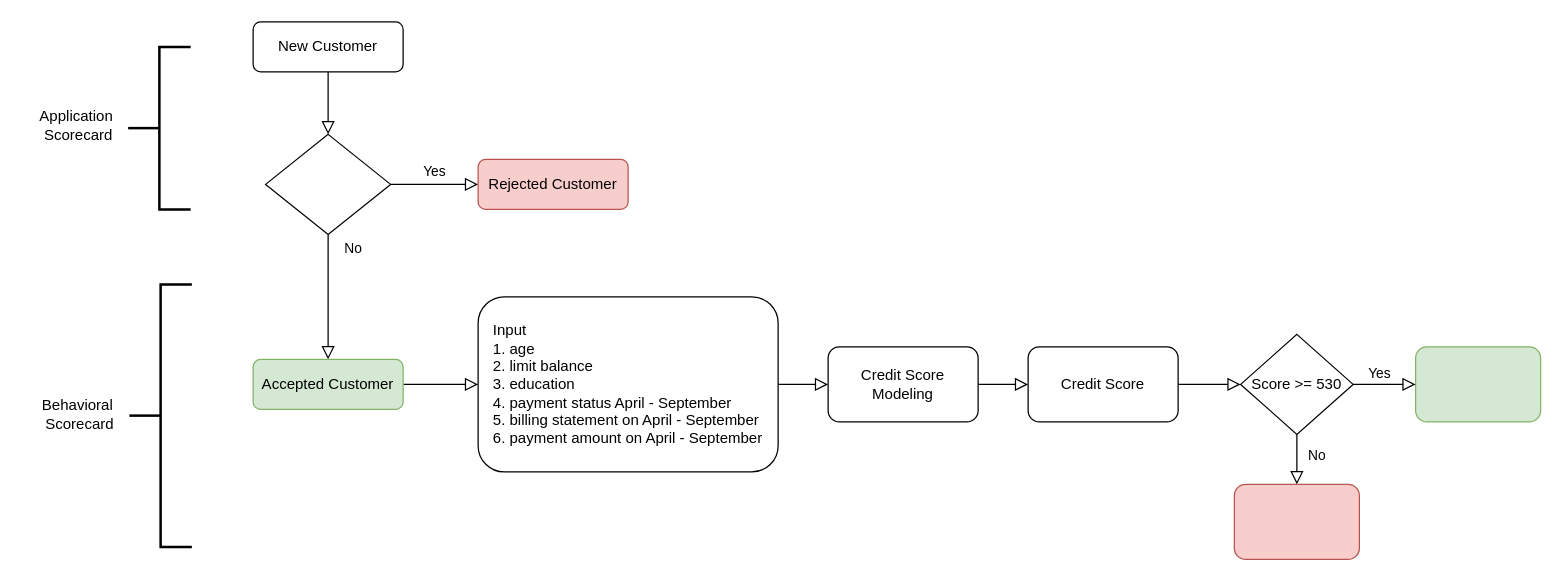
The diagram is 1563 pixels wide and 581 high, and some of its shapes have lost their labels. Each missing label, with the centre of its shape:
Approve: point 1477,384
Default?: point 327,183
Reject: point 1296,521
